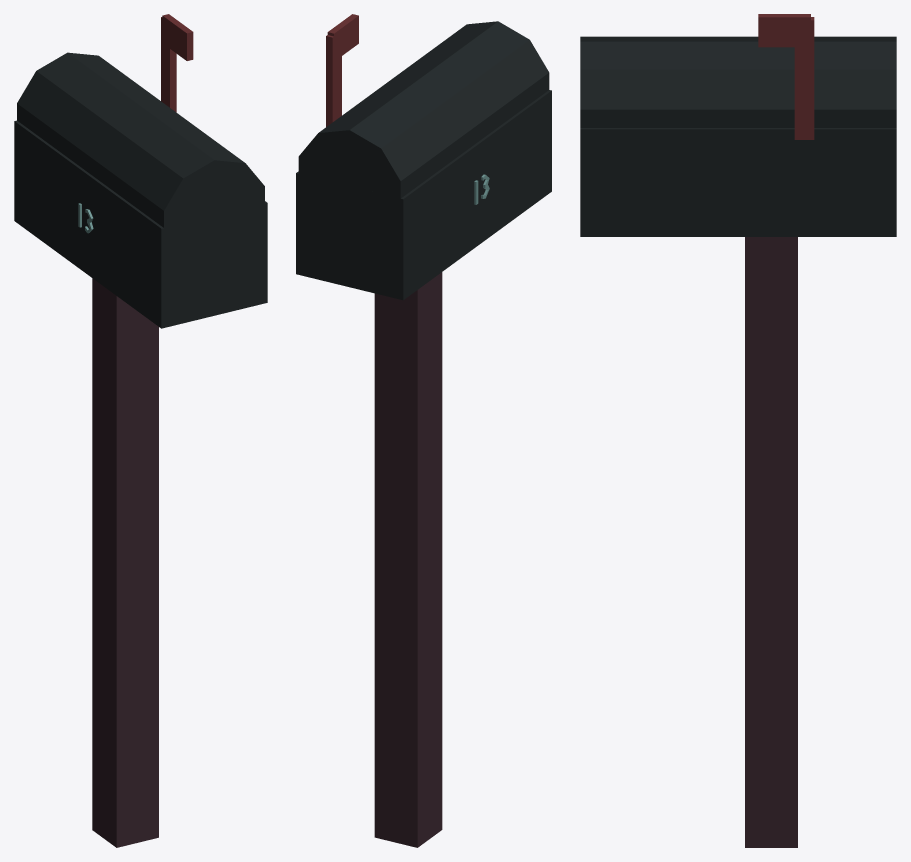
Rendered from cutie_posta.glb.
3 renders of one model, left to right at view 1: azimuth 30°, elevation 25°; view 2: azimuth 150°, elevation 25°; view 3: azimuth 270°, elevation 25°, orthographic. The views are drawn at different scales.
Visible parts, largest first — view 1: CutiePosta; view 2: CutiePosta; view 3: CutiePosta.
Boxes of the visible parts, <box> form: CutiePosta: <box>14,14,267,847</box>; CutiePosta: <box>296,14,551,847</box>; CutiePosta: <box>580,14,896,847</box>.
Bounding box in the file's own units: 0.224 × 1.42 × 0.48.
